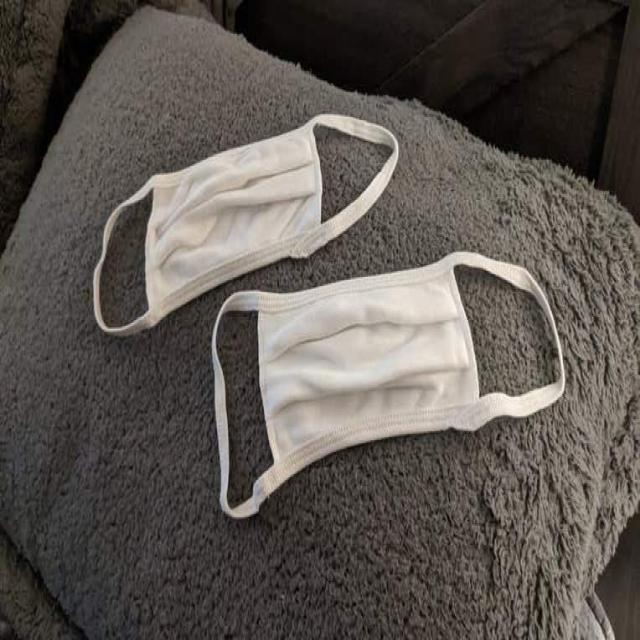non-organic waste: (203, 245, 562, 512), (87, 89, 401, 351)
